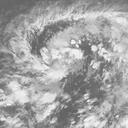cyclone: (24, 31, 84, 87)
